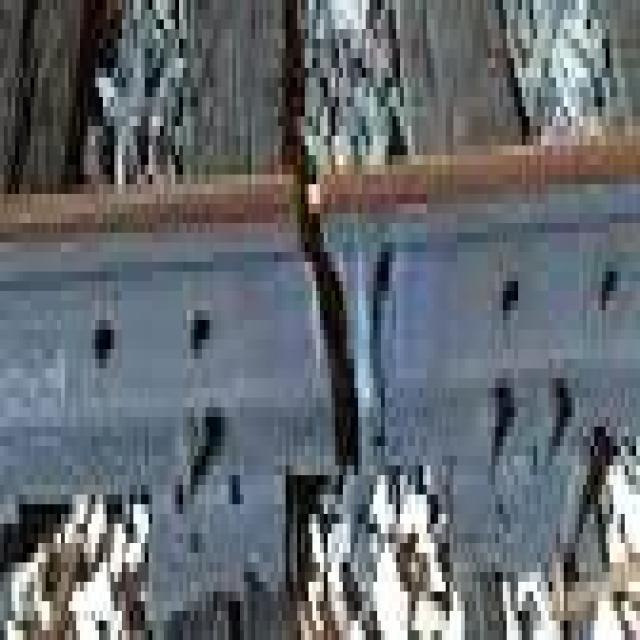broken_rail_high: (283, 182, 377, 472)
